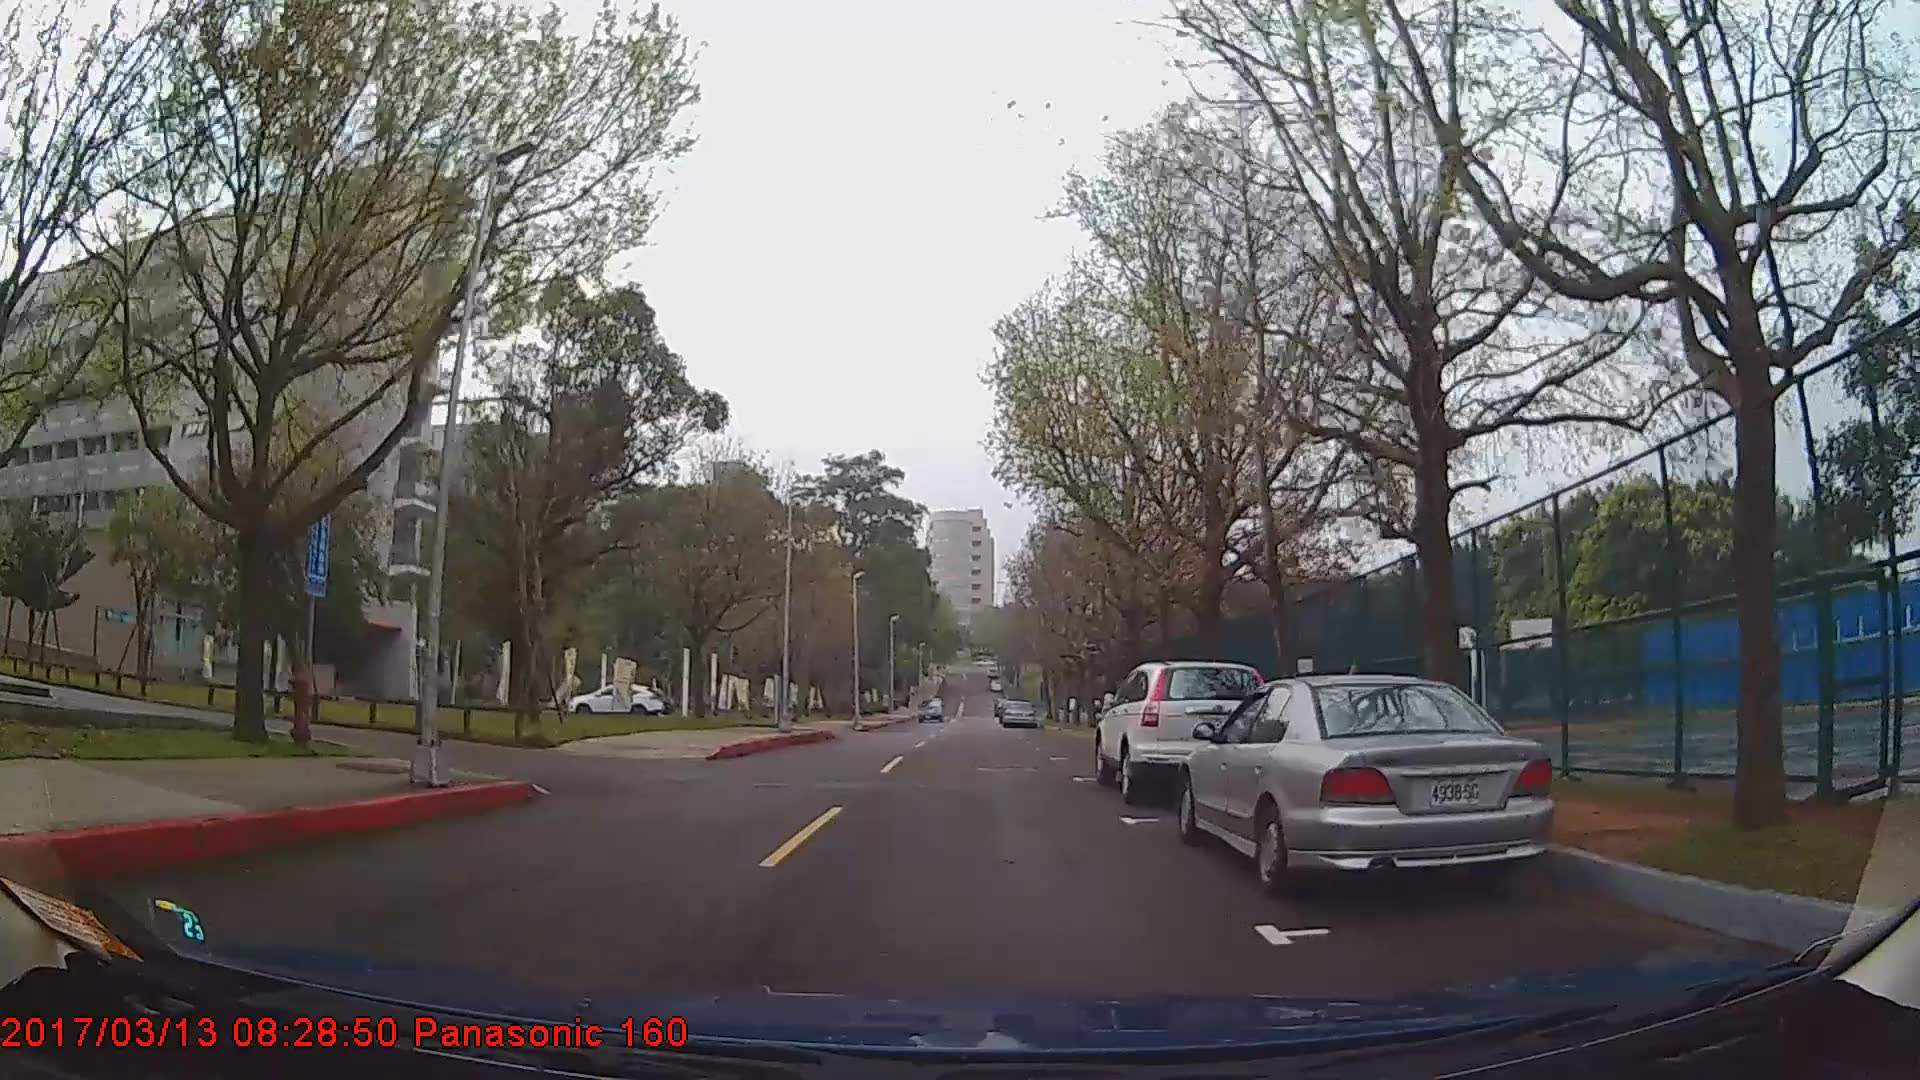vehicle: (1179, 675, 1557, 897), (1092, 662, 1273, 803), (568, 678, 667, 717), (997, 699, 1036, 731), (916, 694, 943, 723)
